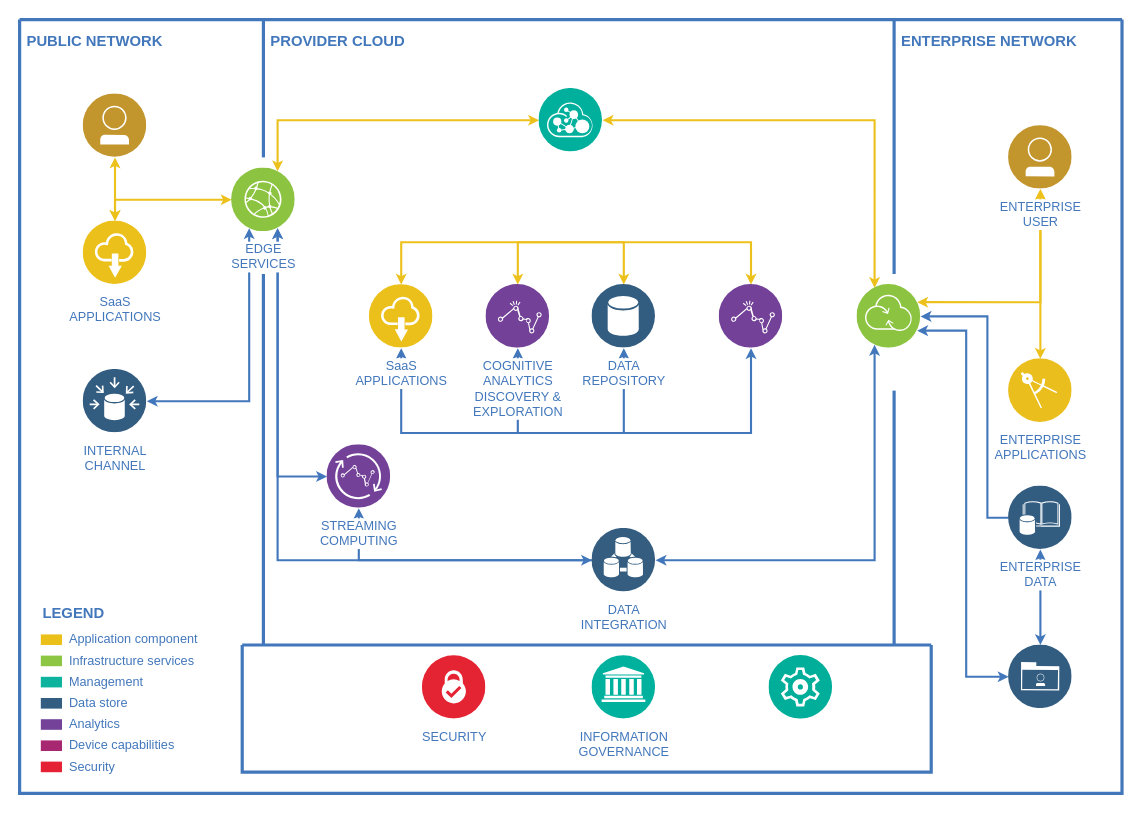
This 1142x813 diagram has some shape labels left out. Each missing label, with the centre of its shape:
API MANAGEMENT: pixel 570 120
CLOUD USER: pixel 114 125
COGNITIVE ACTIONABLE INSIGHTS: pixel 750 316
ENTERPRISE USER DIRECTORY: pixel 1040 676
SYSTEMS MANAGEMENT: pixel 800 687
TRANSFORMATION & CONNECTIVITY: pixel 888 316
